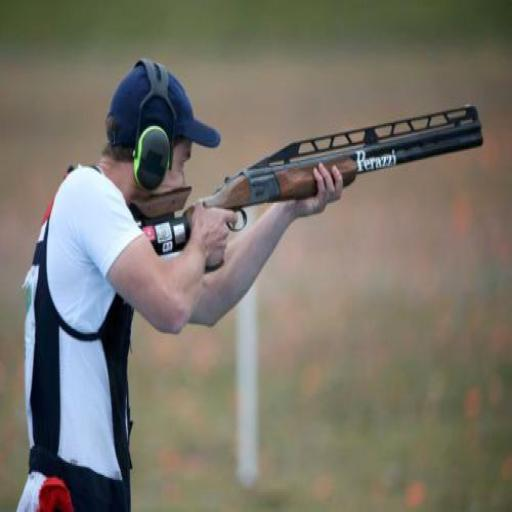shooting: (11, 57, 350, 510)
